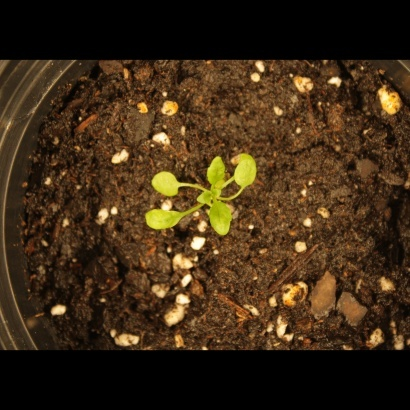leaf: (200, 197, 240, 239), (140, 204, 188, 236), (229, 153, 262, 190), (203, 152, 229, 194), (150, 166, 182, 199)
